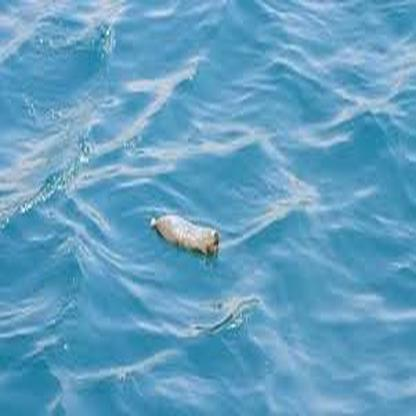plastic bottle: (148, 213, 219, 255)
